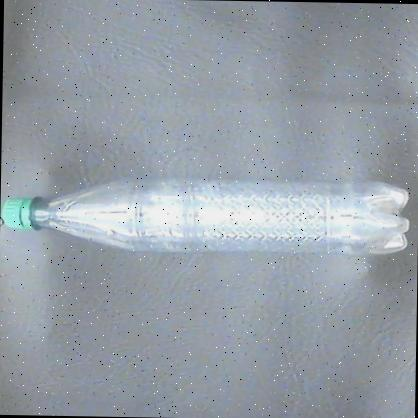bottle: (5, 170, 414, 258)
cap: (0, 190, 41, 234)
